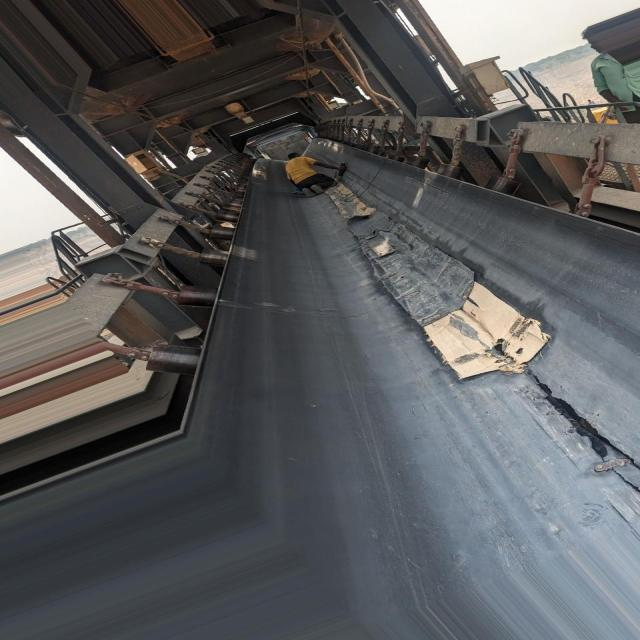Human: (282, 151, 342, 198)
Roller: (148, 177, 249, 379), (361, 143, 520, 194)
Tear: (539, 380, 606, 457)
patch work: (345, 210, 550, 377)
